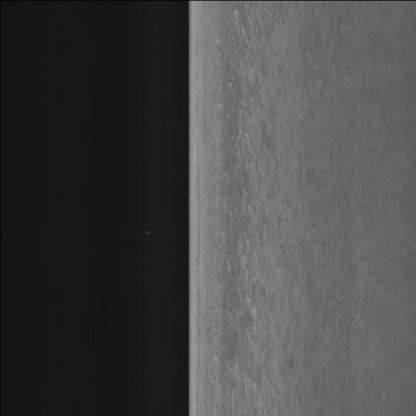silk_spot: (216, 15, 338, 396)
